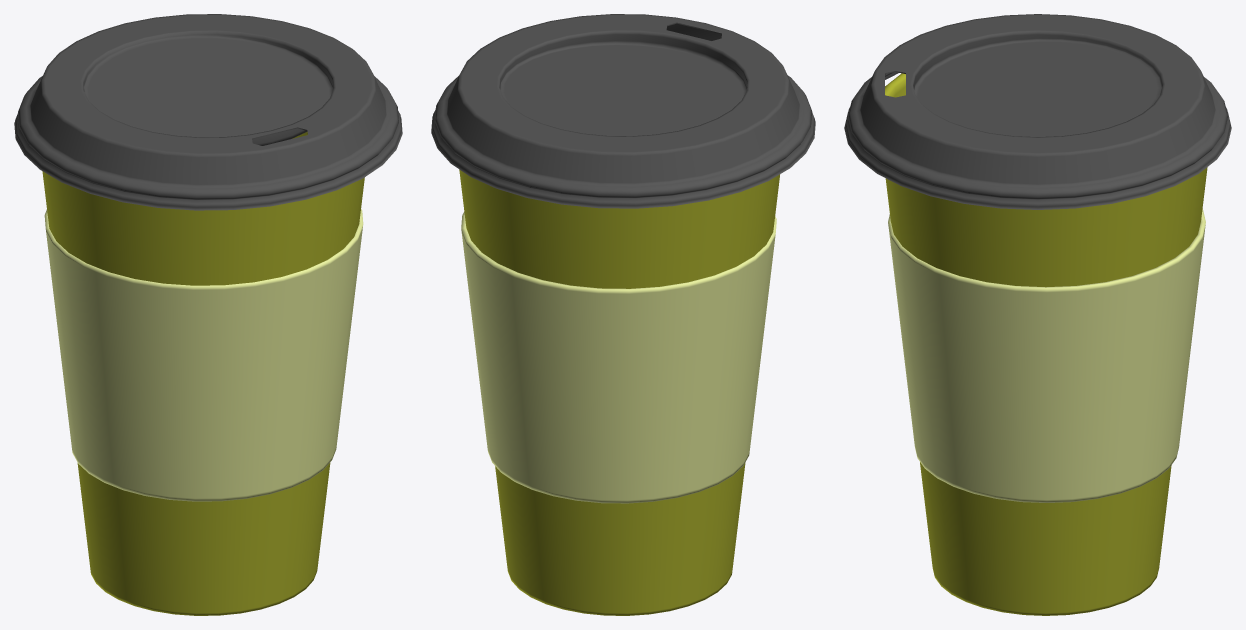
File: Bardak2.fbx
The picture shows the model from 3 angles, left to right: view 1: azimuth 30°, elevation 25°; view 2: azimuth 150°, elevation 25°; view 3: azimuth 270°, elevation 25°; orthographic projection.
Parts seen in each view (by area): view 1: Bardak2; view 2: Bardak2; view 3: Bardak2.
Part boxes in pixels (x1,y1,x2,y2): Bardak2: [14, 14, 402, 615]; Bardak2: [431, 14, 815, 615]; Bardak2: [844, 14, 1231, 615].
Bounding box in the file's own units: 69.99 × 96.5 × 69.99.
